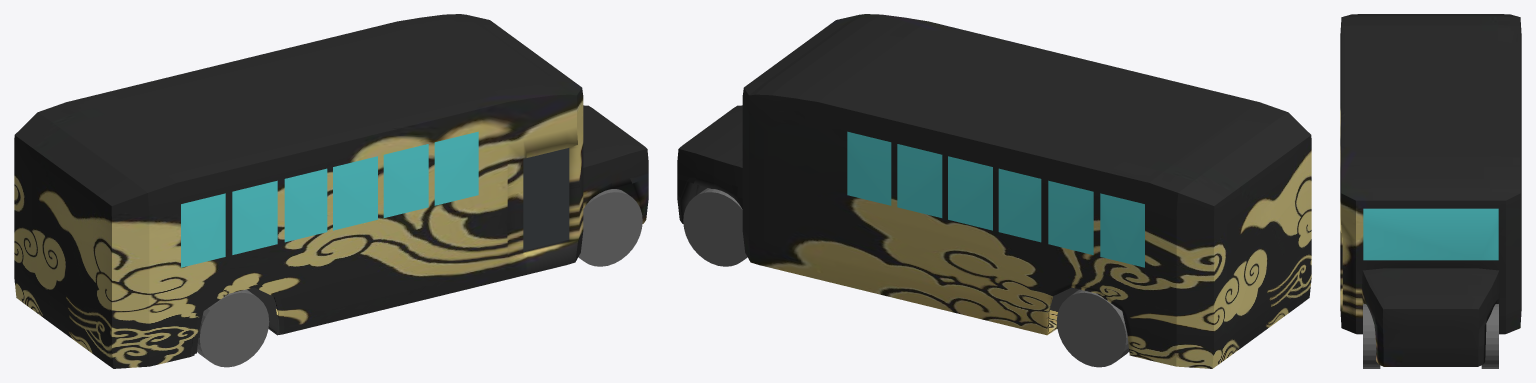
The model's file is Bus 1.fbx.
3 renders of one model, left to right at view 1: azimuth 30°, elevation 25°; view 2: azimuth 150°, elevation 25°; view 3: azimuth 270°, elevation 25°, orthographic. The views are drawn at different scales.
Parts seen in each view (by area): view 1: Cube, Cube.001, Cylinder, Cylinder.001; view 2: Cube, Cylinder.002, Cylinder.003; view 3: Cube, Cylinder.003, Cylinder.001.
Boxes of the visible parts, left/top/right/bottom form: Cube: left=14, top=14, right=648, bottom=368; Cube.001: left=523, top=148, right=569, bottom=250; Cylinder: left=197, top=289, right=269, bottom=367; Cylinder.001: left=578, top=189, right=642, bottom=266; Cube: left=677, top=14, right=1311, bottom=368; Cylinder.002: left=1056, top=289, right=1129, bottom=367; Cylinder.003: left=683, top=188, right=747, bottom=266; Cube: left=1340, top=14, right=1521, bottom=366; Cylinder.003: left=1481, top=304, right=1498, bottom=368; Cylinder.001: left=1363, top=304, right=1380, bottom=368.
Size of the model in its own units: 990 by 343 by 343.
